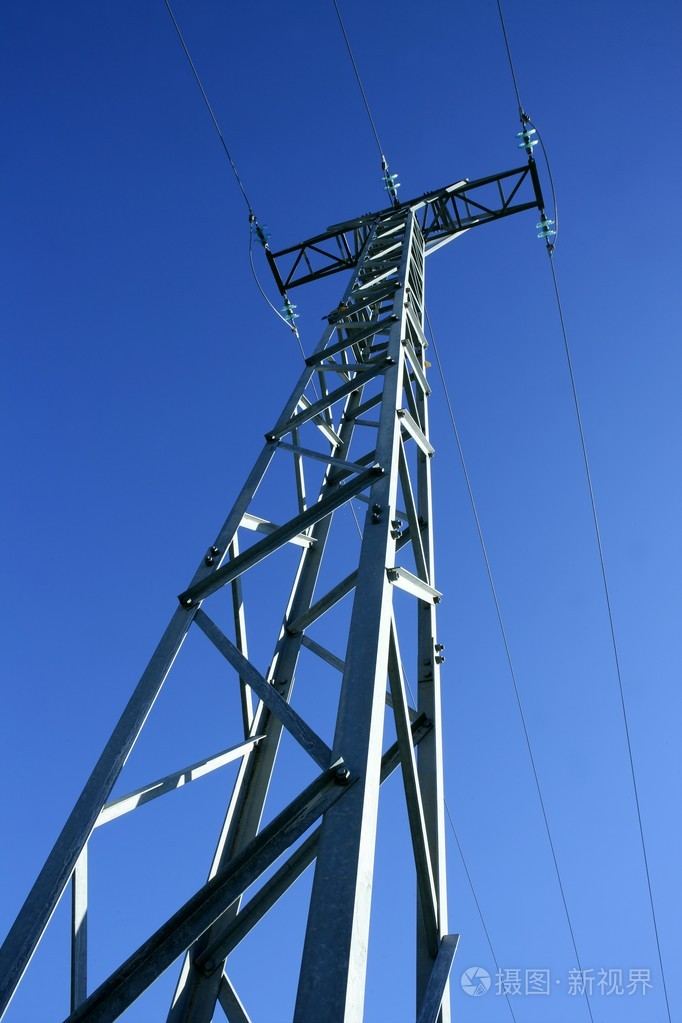insulator: (514, 129, 540, 155), (280, 300, 302, 327), (379, 171, 404, 194), (535, 216, 556, 239)
